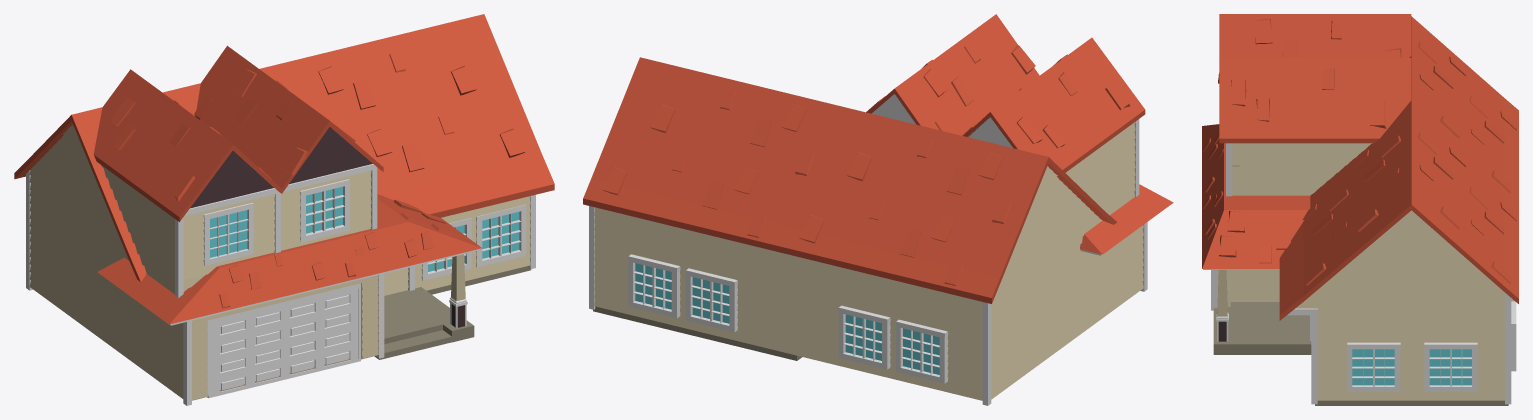
Rendered from house v1.0.glb.
3 views of the same model, side by side, from view 1: azimuth 30°, elevation 25°; view 2: azimuth 150°, elevation 25°; view 3: azimuth 270°, elevation 25° (orthographic). The views are drawn at different scales.
Visible parts, largest first — view 1: Cube.679; view 2: Cube.679; view 3: Cube.679.
Part boxes in pixels (left/top/right/bottom): Cube.679: left=14, top=14, right=554, bottom=405; Cube.679: left=583, top=14, right=1173, bottom=405; Cube.679: left=1202, top=14, right=1518, bottom=405.
Size of the model in its own units: 23.65 by 13.09 by 16.16.
